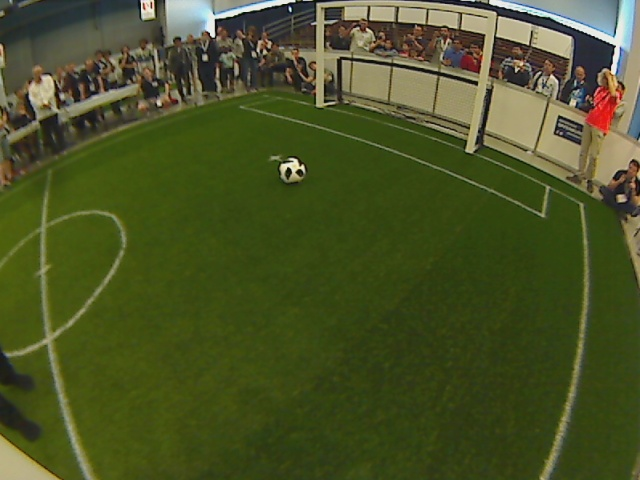ball: (274, 156, 308, 184)
